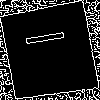I: (24, 26, 76, 49)
